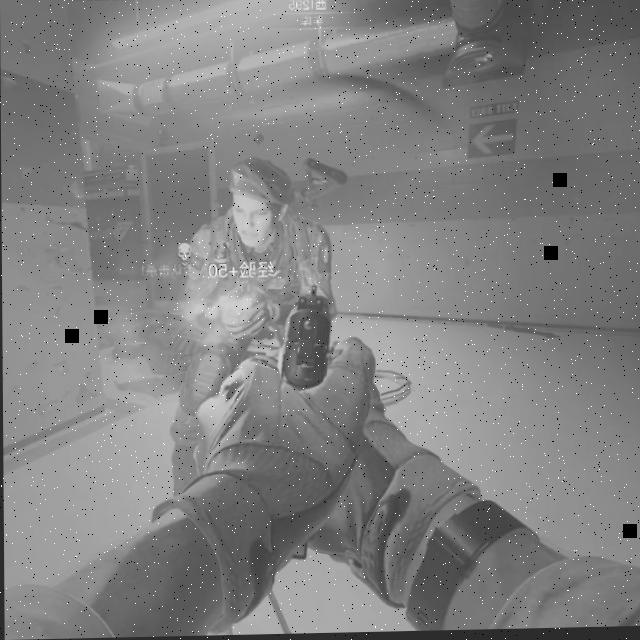MW2_body: (175, 134, 334, 408)
